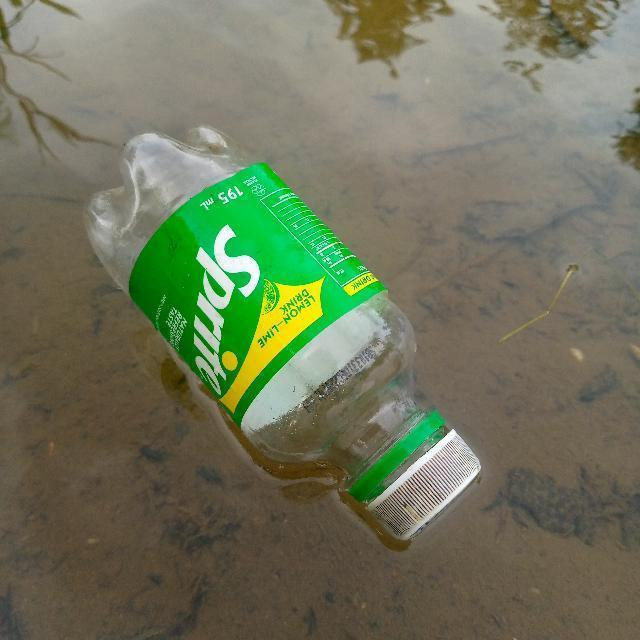Bottle: (71, 113, 495, 556)
